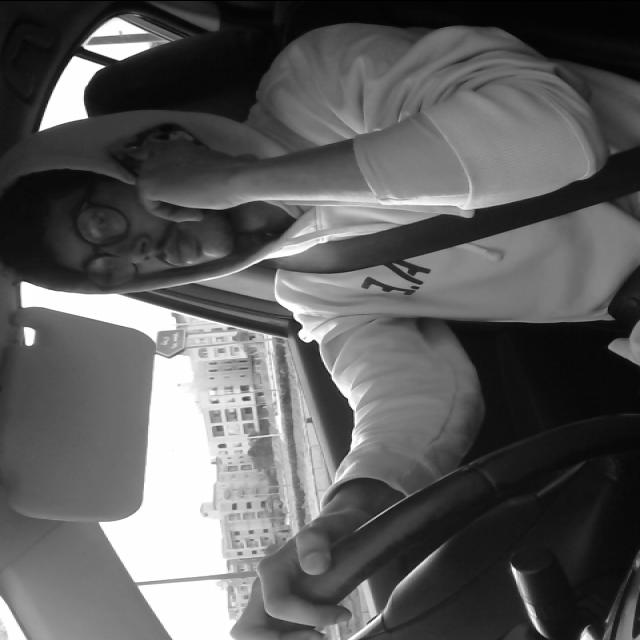mobile use: (100, 117, 234, 205)
